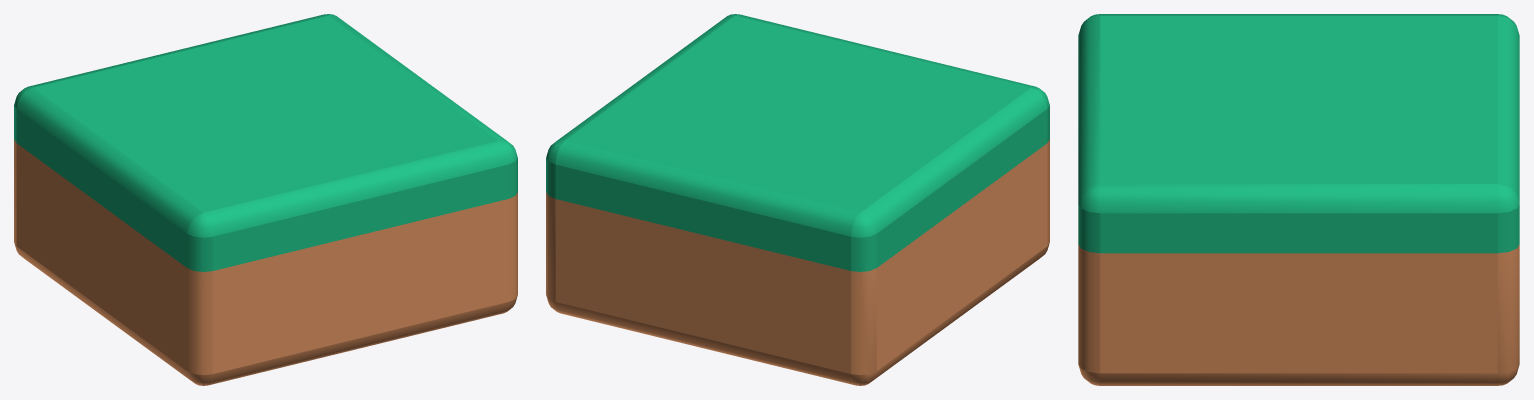
File: blockRoundedLarge.fbx
3 views of the same model, side by side, from view 1: azimuth 30°, elevation 25°; view 2: azimuth 150°, elevation 25°; view 3: azimuth 270°, elevation 25° (orthographic). The views are drawn at different scales.
Parts seen in each view (by area): view 1: blockRoundedLarge; view 2: blockRoundedLarge; view 3: blockRoundedLarge.
Part boxes in pixels (box(x1,y1,x2,y2)): blockRoundedLarge: box(14, 14, 517, 385); blockRoundedLarge: box(546, 14, 1049, 385); blockRoundedLarge: box(1078, 14, 1519, 385).
Bounding box in the file's own units: 20 × 10 × 20.
